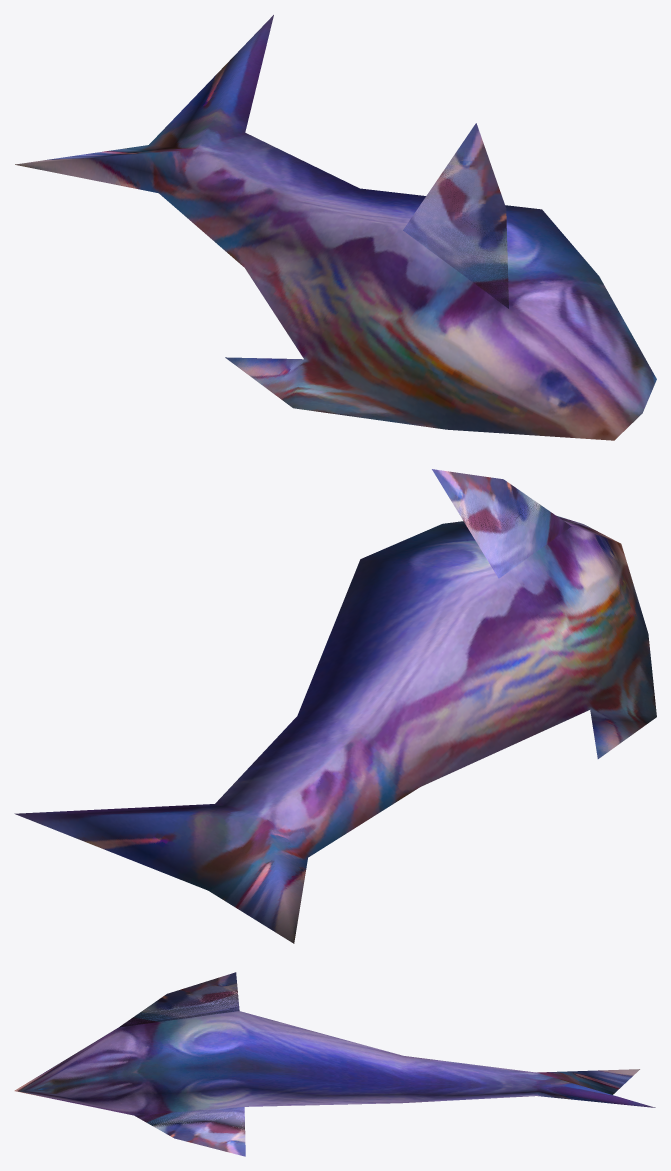
File: fishdeadpurple.obj
The picture shows the model from 3 angles, top to bottom: view 1: azimuth 30°, elevation 25°; view 2: azimuth 150°, elevation 25°; view 3: azimuth 270°, elevation 25°; orthographic projection. The views are drawn at different scales.
Parts seen in each view (by area): view 1: fishdeadpurple; view 2: fishdeadpurple; view 3: fishdeadpurple.
Boxes of the visible parts, x1=… form: fishdeadpurple: x1=15, y1=15, x2=656, y2=440; fishdeadpurple: x1=14, y1=469, x2=656, y2=943; fishdeadpurple: x1=14, y1=972, x2=655, y2=1156.
Size of the model in its own units: 0.2627 by 0.1823 by 0.6778.
1 material, 1 textured.
